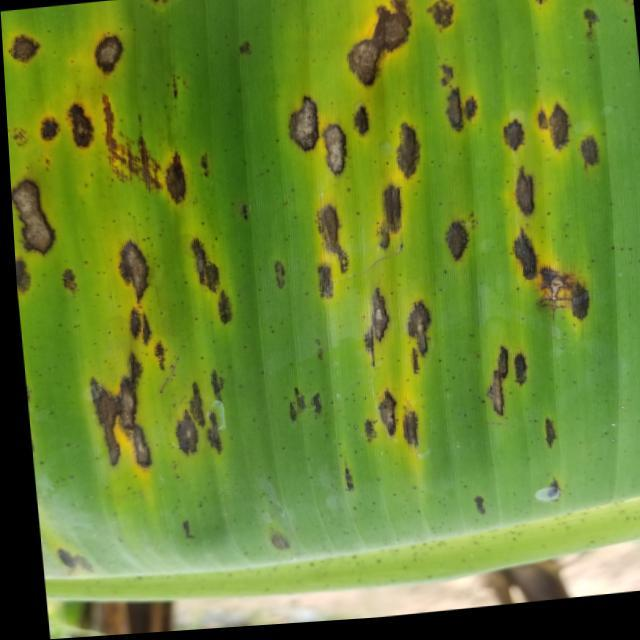Early_rust: (0, 0, 630, 565)
